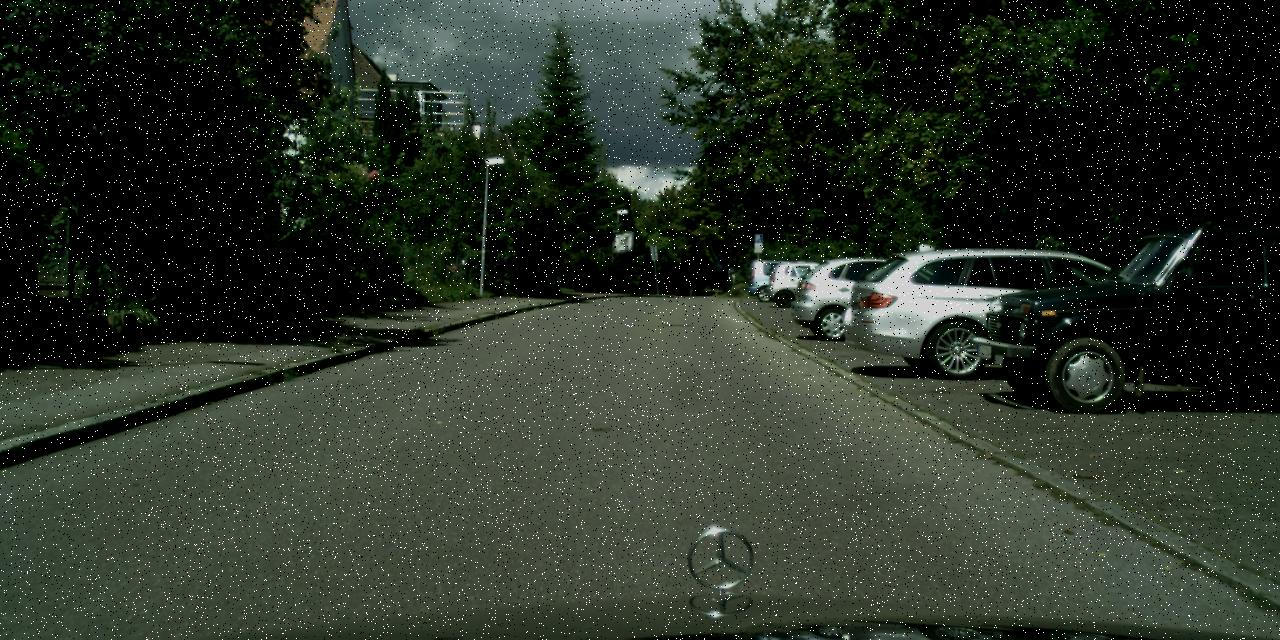ped: (550, 254, 567, 296)
